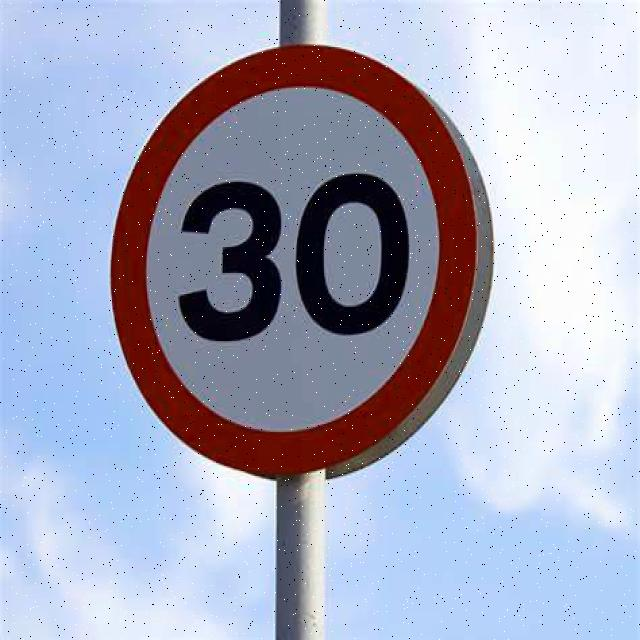speedlimit_30: (113, 43, 486, 469)
